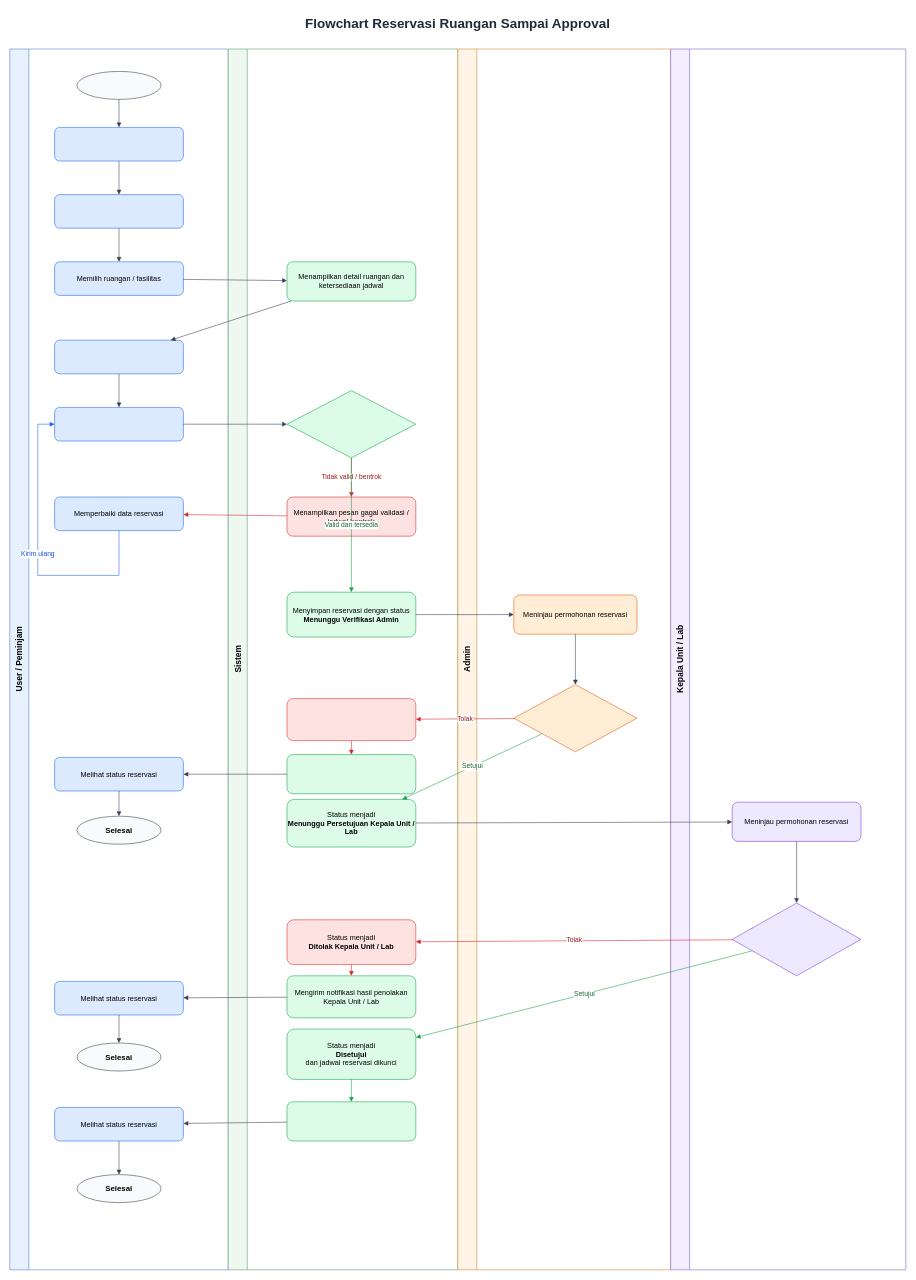
The diagram is 916 pixels wide and 1280 high, and some of its shapes have lost their labels. The shapes that lost their labels are listed below. From the top down, each one's centre as x and y in pixels, then its label:
the point at 118,85: Mulai
the point at 118,144: Login ke sistem
the point at 118,211: Membuka halaman reservasi
the point at 118,357: Mengisi formulir reservasi
the point at 118,424: Mengirim permohonan reservasi
the point at 351,424: Validasi data dan cek bentrok jadwal
the point at 351,719: Status menjadi Ditolak Admin
the point at 575,718: Admin menyetujui permohonan?
the point at 351,774: Mengirim notifikasi hasil penolakan admin
the point at 796,939: Kepala Unit / Lab menyetujui permohonan?
the point at 351,1121: Mengirim notifikasi hasil akhir reservasi
